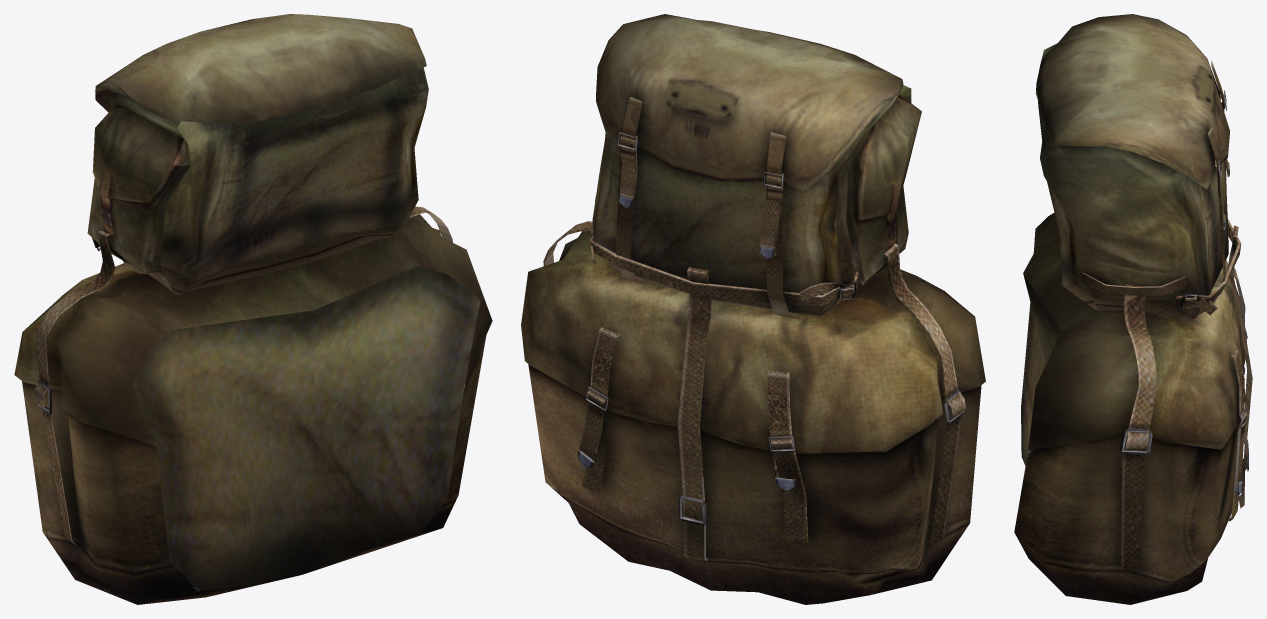
The model's file is backpack.FBX.
3 views of the same model, side by side, from view 1: azimuth 30°, elevation 25°; view 2: azimuth 150°, elevation 25°; view 3: azimuth 270°, elevation 25° (orthographic). The views are drawn at different scales.
Visible parts, largest first — view 1: backpack; view 2: backpack; view 3: backpack.
Boxes of the visible parts, box(x1,y1,x2,y2) form: backpack: box(14, 14, 492, 604); backpack: box(521, 14, 985, 604); backpack: box(1014, 14, 1252, 604).
Size of the model in its own units: 0.4163 by 0.216 by 0.4927.
